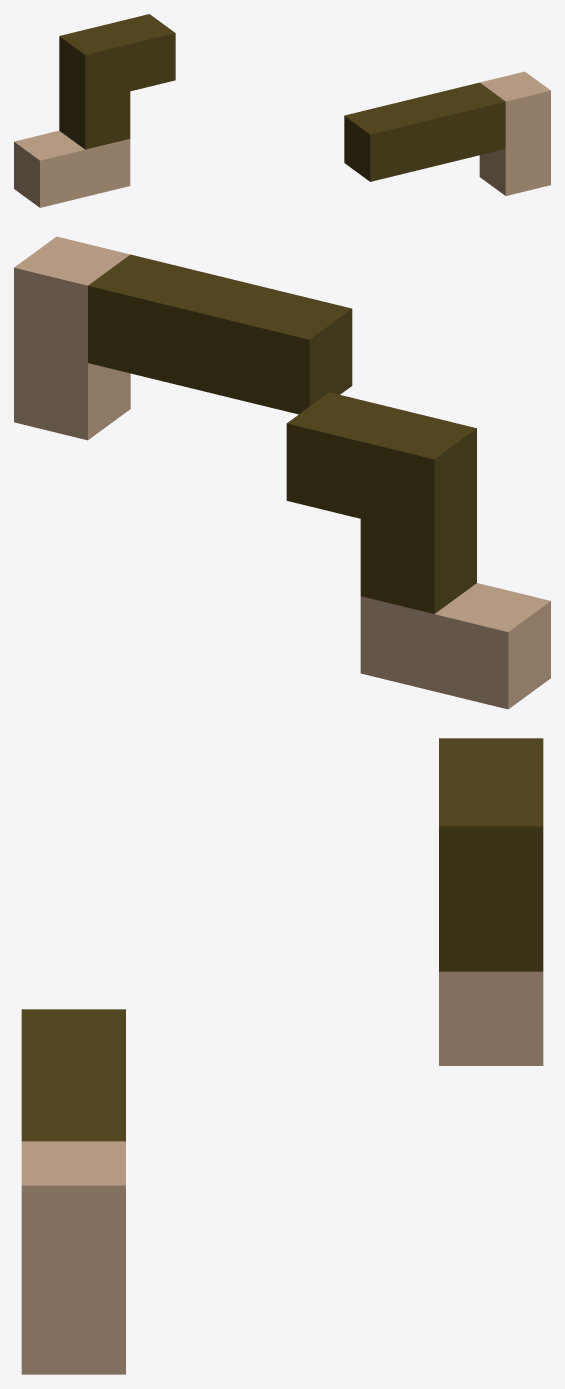
Rendered from orc-4-torso_walk.obj.
3 renders of one model, top to bottom at view 1: azimuth 30°, elevation 25°; view 2: azimuth 150°, elevation 25°; view 3: azimuth 270°, elevation 25°, orthographic. The views are drawn at different scales.
Visible parts, largest first — view 1: torso_walk; view 2: torso_walk; view 3: torso_walk.
Part boxes in pixels (x1=…): torso_walk: x1=14, y1=14, x2=550, y2=207; torso_walk: x1=14, y1=236, x2=550, y2=709; torso_walk: x1=21, y1=738, x2=543, y2=1374.
Size of the model in its own units: 0.9 by 0.3 by 0.5.
1 material, 1 textured.
